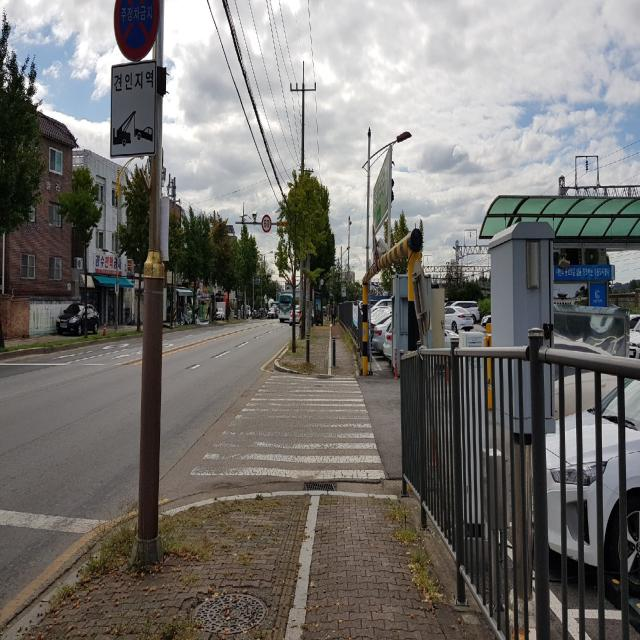횡단보도: (189, 374, 386, 482)
